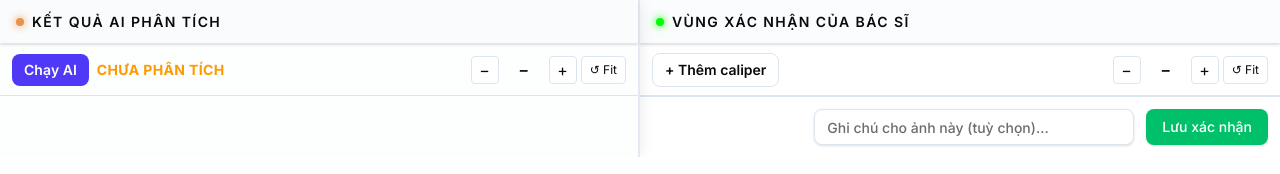
Test case: DiagnosticCanvas › bấm 'Chạy AI' thành công thì cập nhật số vùng abnormal, gọi đúng caseId/file
Click the button "Chạy AI" at (50, 70), box [12,54,89,86]
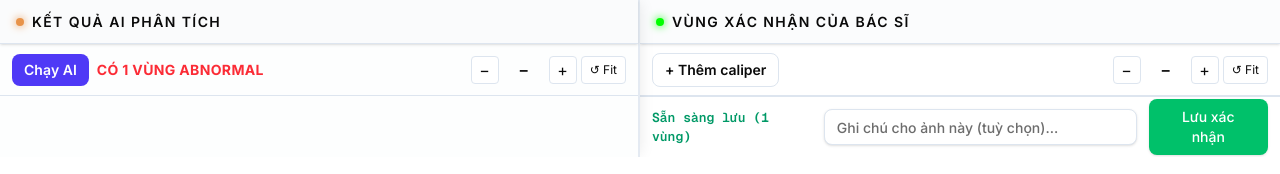
Expected: the text "Có 1 vùng abnormal" is shown, [97,60,264,80]
